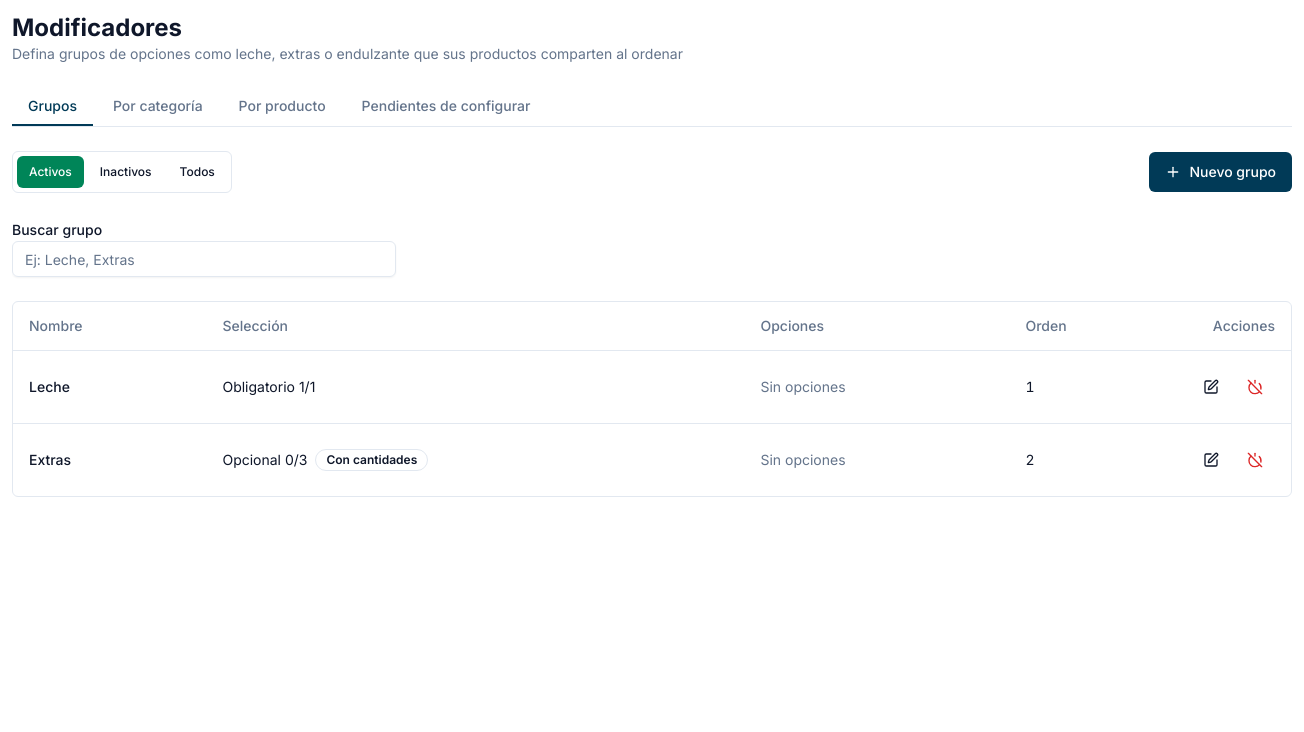
Test: ModifiersPage tabs › Por producto › splits the effective groups into inherited (no remove) and exceptions (with remove)
Step 1. Click the tab "Por producto" → (282, 107), box [223,88,342,126]
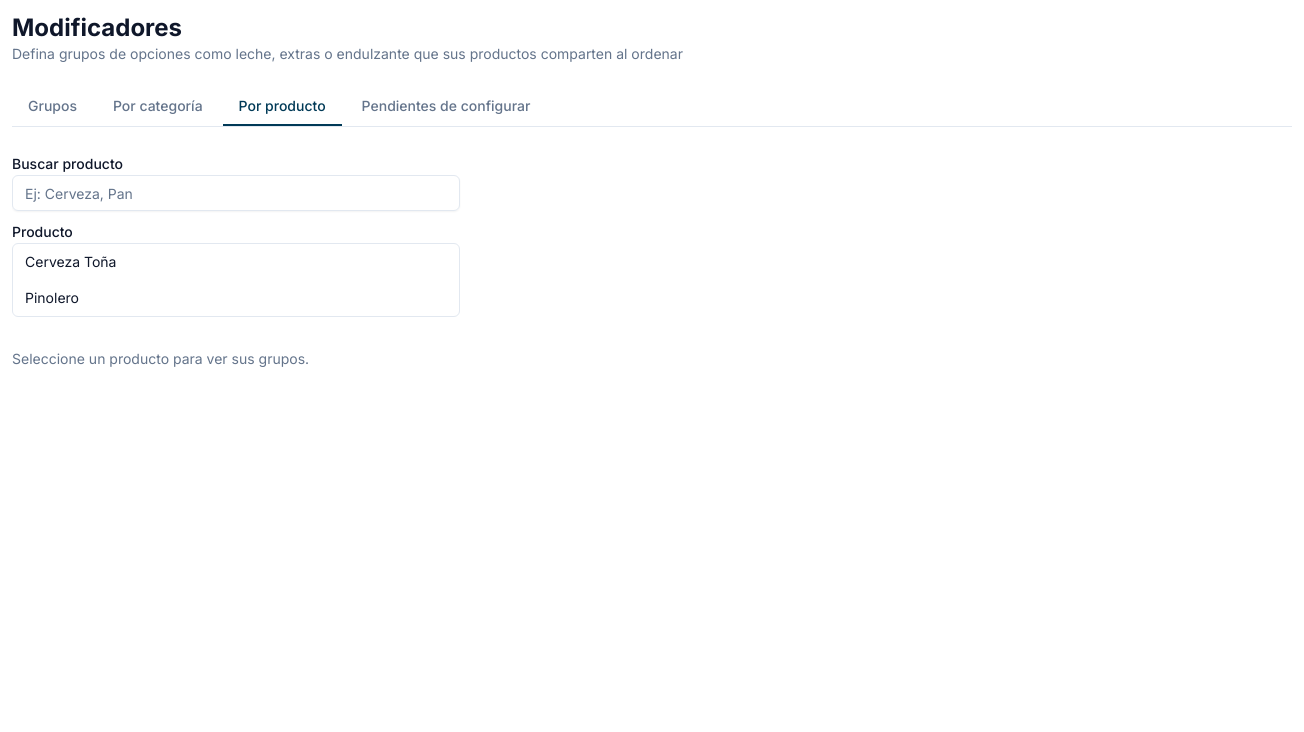
Step 2. Click the option "Cerveza Toña" → (71, 262), box [13,244,459,280]
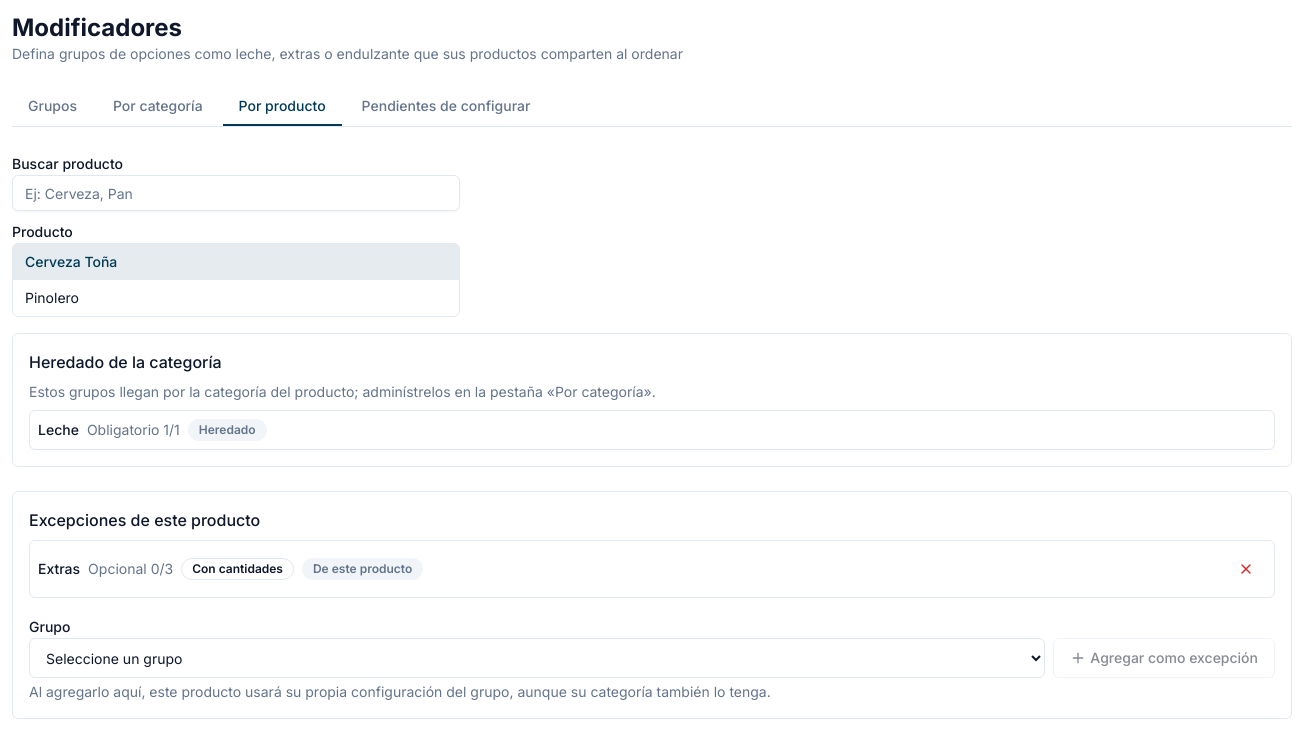
Result: the text "Heredado de la categoría" shows "Leche" at [38,421,79,438]
Result: the text "Heredado de la categoría" is shown at [199,422,256,437]
Result: the text "Excepciones de este producto" is shown at [29,510,260,530]
